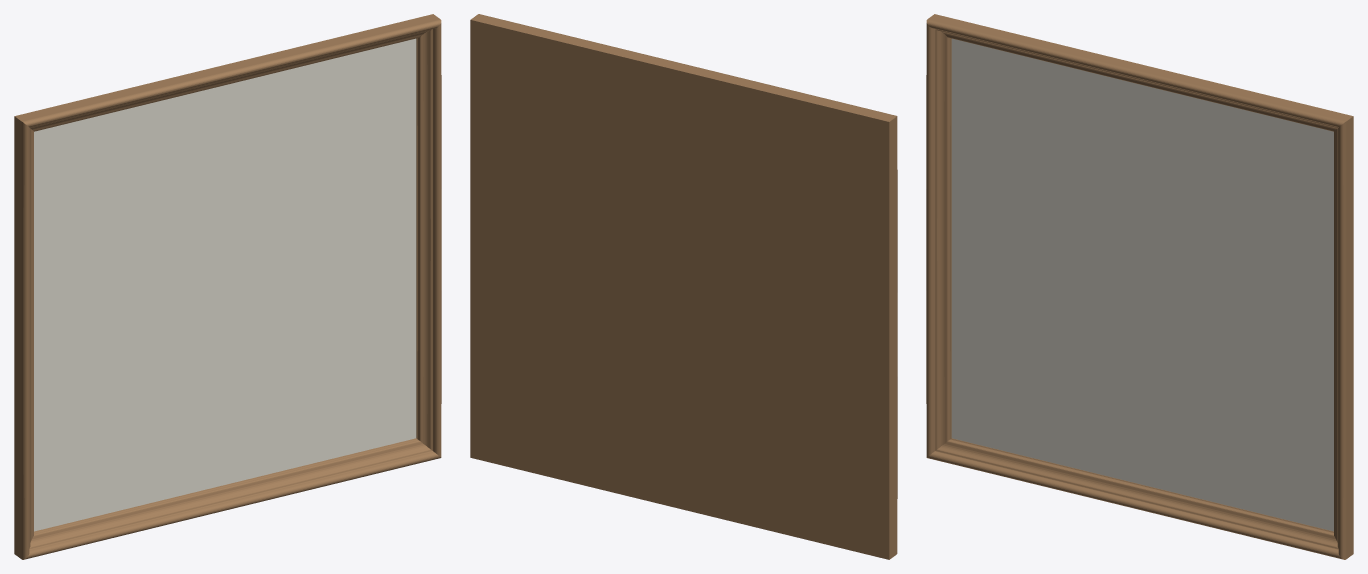
Rendered from ergoflex-picture-frame-2.glb.
The picture shows the model from 3 angles, left to right: view 1: azimuth 30°, elevation 25°; view 2: azimuth 150°, elevation 25°; view 3: azimuth 330°, elevation 25°; orthographic projection.
Parts seen in each view (by area): view 1: Supplied picture-frame-2 part 1, Supplied picture-frame-2 part 0; view 2: Supplied picture-frame-2 part 0; view 3: Supplied picture-frame-2 part 1, Supplied picture-frame-2 part 0.
Part boxes in pixels (left/top/right/bottom): Supplied picture-frame-2 part 1: left=34, top=38, right=416, bottom=531; Supplied picture-frame-2 part 0: left=14, top=14, right=441, bottom=559; Supplied picture-frame-2 part 0: left=470, top=14, right=897, bottom=559; Supplied picture-frame-2 part 1: left=951, top=38, right=1333, bottom=531; Supplied picture-frame-2 part 0: left=926, top=14, right=1353, bottom=559.
Bounding box in the file's own units: 0.27 × 0.2697 × 0.0108.
